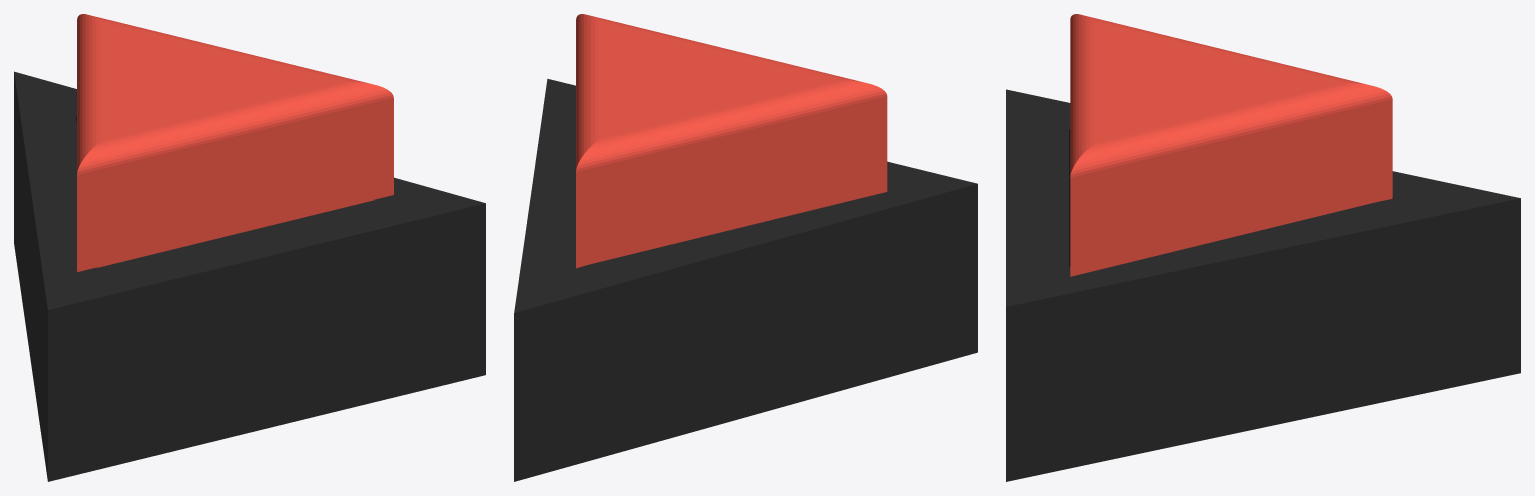
File: TriangularButton.fbx
3 renders of one model, left to right at view 1: azimuth 30°, elevation 25°; view 2: azimuth 150°, elevation 25°; view 3: azimuth 270°, elevation 25°, orthographic. The views are drawn at different scales.
Visible parts, largest first — view 1: Triangular_Button_Base, Triangular_Button; view 2: Triangular_Button_Base, Triangular_Button; view 3: Triangular_Button_Base, Triangular_Button.
Boxes of the visible parts, bbox=[...] form: Triangular_Button_Base: bbox=[14, 71, 485, 481]; Triangular_Button: bbox=[77, 14, 393, 272]; Triangular_Button_Base: bbox=[514, 78, 977, 481]; Triangular_Button: bbox=[576, 14, 887, 268]; Triangular_Button_Base: bbox=[1006, 89, 1520, 481]; Triangular_Button: bbox=[1070, 14, 1392, 276].
Bounding box in the file's own units: 200 × 124 × 200.
